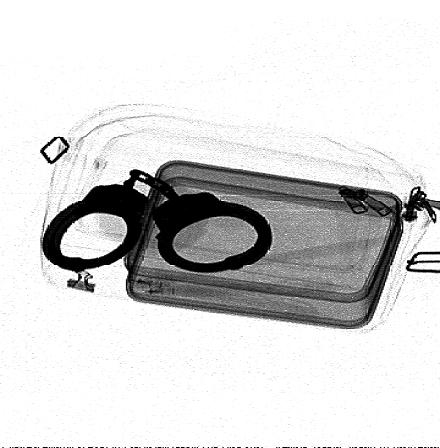HandCuffs: (42, 168, 272, 274)
